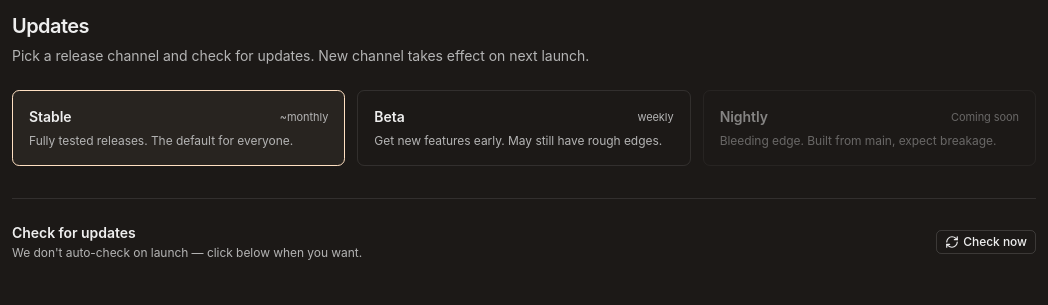
Test: updateChannelSection › renders the up-to-date confirmation after a check
Click the button "Check now".
click(986, 242)  # box [936,230,1036,254]
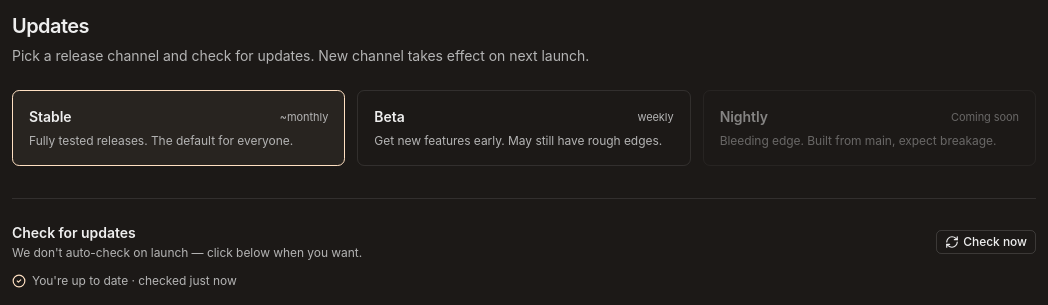
Result: the text "You're up to date · checked just now" is shown at [12,273,237,288]
